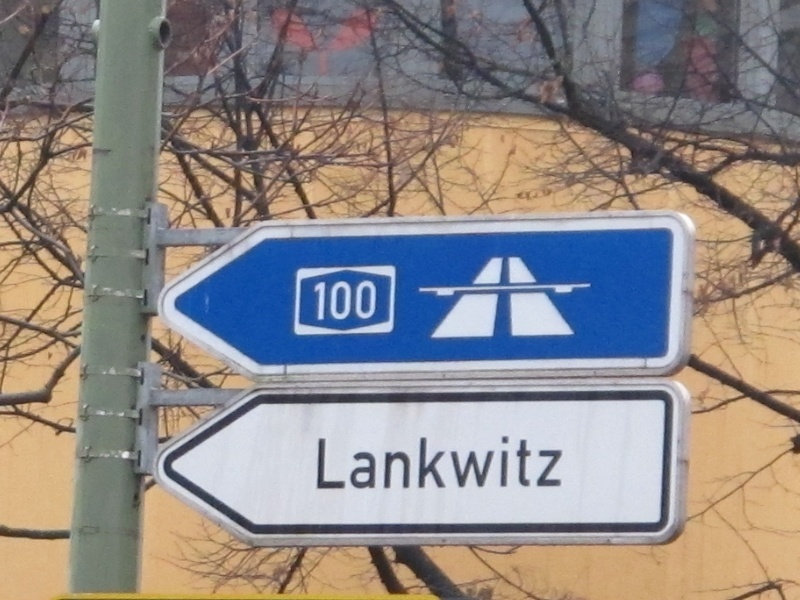text: (321, 436, 336, 490), (337, 436, 352, 490), (353, 436, 368, 490), (369, 436, 384, 490), (385, 436, 400, 490), (401, 436, 416, 490), (417, 436, 432, 490), (433, 436, 448, 490), (449, 436, 464, 490), (465, 436, 480, 490), (481, 436, 496, 490), (497, 436, 512, 490), (513, 436, 528, 490), (529, 436, 544, 490), (545, 436, 560, 490), (321, 281, 336, 322), (337, 281, 352, 322), (353, 281, 368, 322), (561, 436, 568, 490), (369, 281, 378, 322), (314, 281, 320, 322), (318, 436, 320, 490)
